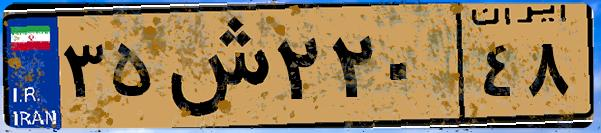0: (385, 28, 445, 110)
2: (270, 28, 330, 110), (330, 28, 385, 110)
3: (57, 26, 110, 100)
4: (475, 38, 525, 113)
5: (110, 28, 158, 98)
8: (525, 38, 570, 115)
ش: (158, 12, 270, 120)
